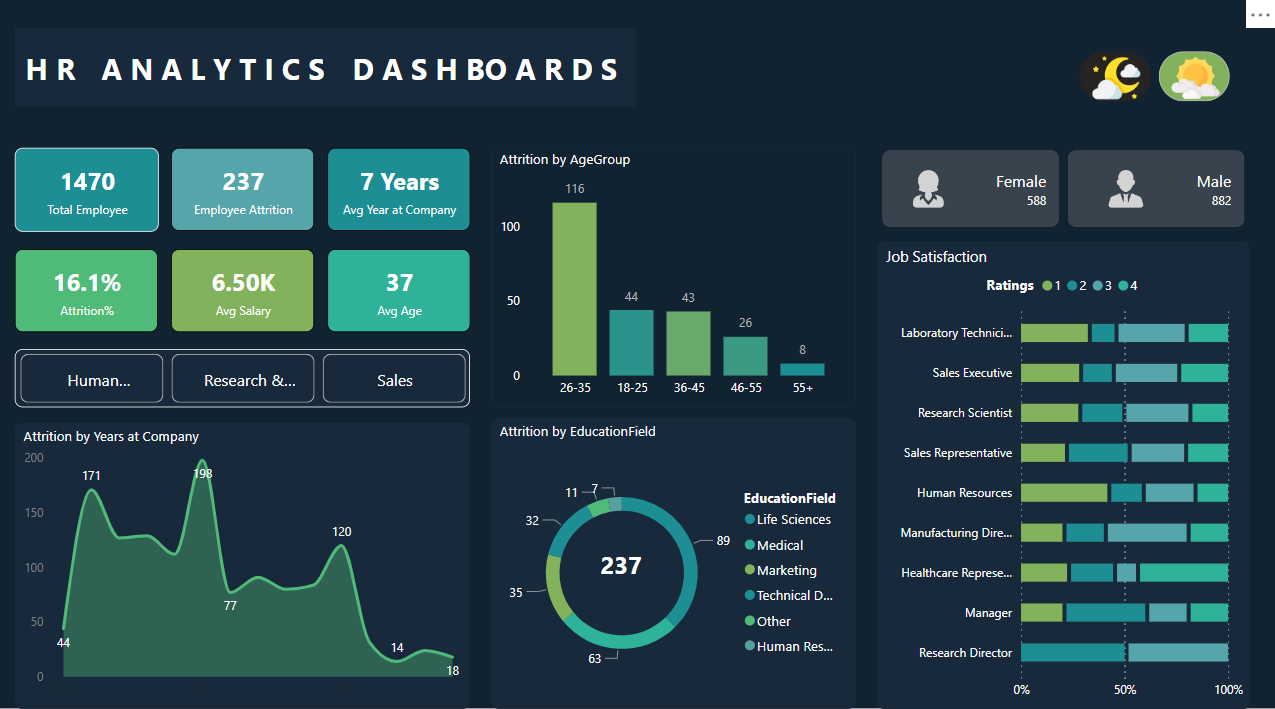

The dashboard page shown, as its layout file describes it:
{"tool":"powerbi","page":{"name":"OVERVIEW","canvas":[1280,720],"ordinal":0},"visuals":[{"type":"shape","box":[0,0,1280,710],"z":0},{"type":"shape","box":[18.6,28.6,71.4,78.6],"z":0,"group":"g1"},{"type":"shape","box":[90,28.6,254.3,78.6],"z":1000,"group":"g1"},{"type":"image","box":[1106.2,166.2,47.5,47.5],"z":1000},{"type":"shape","box":[337.2,28.6,302.9,78.6],"z":2000,"group":"g1"},{"type":"image","box":[908.8,166.2,47.5,47.5],"z":2000},{"type":"card","fields":{"Values":["Key Measures.Employee Count"]},"box":[18.8,148.8,143.8,83.8],"z":3000},{"type":"areaChart","title":"Attrition by Years at Company","fields":{"Y":["CountNonNull(HR_Analytics.Attrition)"],"Category":["HR_Analytics.YearsAtCompany"]},"box":[18.8,423.8,455,286.2],"z":4000},{"type":"donutChart","title":"Attrition by EducationField","fields":{"Y":["Key Measures.Employee Attrition"],"Category":["HR_Analytics.EducationField"]},"box":[495,418.8,365,291.2],"z":5000},{"type":"clusteredColumnChart","title":"Attrition by AgeGroup","fields":{"Category":["HR_Analytics.AgeGroup"],"Y":["Key Measures.Employee Attrition"]},"box":[495,146.2,365,262.5],"z":6000},{"type":"hundredPercentStackedBarChart","title":"Job Satisfaction","fields":{"Category":["HR_Analytics.JobRole"],"Y":["Key Measures.Employee Attrition"],"Series":["HR_Analytics.JobSatisfaction"]},"box":[881,242,373,468],"z":7000},{"type":"card","fields":{"Values":["Key Measures.Employee Attrition"]},"box":[174.6,148.8,143,83],"z":8000},{"type":"card","fields":{"Values":["Key Measures.Years With Text"]},"box":[331,148.8,143,83],"z":9000},{"type":"card","fields":{"Values":["Key Measures.Attrition%"]},"box":[18.4,249.8,143,83],"z":10000},{"type":"card","fields":{"Values":["Key Measures.Avg Salary"]},"box":[174.8,249.8,143,83],"z":11000},{"type":"card","fields":{"Values":["Key Measures.Avg Age"]},"box":[331.2,249.8,143,83],"z":12000},{"type":"advancedSlicerVisual","fields":{"Values":["HR_Analytics.Gender"]},"box":[881,146,373,87],"z":13000},{"type":"advancedSlicerVisual","fields":{"Values":["HR_Analytics.Department"]},"box":[18.8,350,455,58.8],"z":14000},{"type":"advancedSlicerVisual","fields":{"Values":["Dark_mode.Label"]},"box":[1078.6,47.1,161.4,60],"z":15000},{"type":"card","fields":{"Values":["Key Measures.Employee Attrition"]},"box":[587.1,531.4,75.7,71.4],"z":16000},{"type":"group","id":"g1","title":"Group 1","box":[18.6,28.6,621.4,78.6],"z":17000}]}

Visuals, with their boxes in screenshot pixels (x1, y1, x2, y2), scaled from the page's 1280x720 canvas onto the 1275x709 screenshot:
shape: detection(0, 0, 1274, 699)
shape: detection(19, 28, 90, 106)
shape: detection(90, 28, 343, 106)
image: detection(1102, 164, 1149, 210)
shape: detection(336, 28, 638, 106)
image: detection(905, 164, 953, 210)
card - Key Measures.Employee Count: detection(19, 147, 162, 229)
"Attrition by Years at Company" areaChart: detection(19, 417, 472, 699)
"Attrition by EducationField" donutChart: detection(493, 412, 857, 699)
"Attrition by AgeGroup" clusteredColumnChart: detection(493, 144, 857, 402)
"Job Satisfaction" hundredPercentStackedBarChart: detection(878, 238, 1249, 699)
card - Key Measures.Employee Attrition: detection(174, 147, 316, 228)
card - Key Measures.Years With Text: detection(330, 147, 472, 228)
card - Key Measures.Attrition%: detection(18, 246, 161, 328)
card - Key Measures.Avg Salary: detection(174, 246, 317, 328)
card - Key Measures.Avg Age: detection(330, 246, 472, 328)
advancedSlicerVisual - HR_Analytics.Gender: detection(878, 144, 1249, 229)
advancedSlicerVisual - HR_Analytics.Department: detection(19, 345, 472, 403)
advancedSlicerVisual - Dark_mode.Label: detection(1074, 46, 1235, 105)
card - Key Measures.Employee Attrition: detection(585, 523, 660, 594)
"Group 1" group: detection(19, 28, 638, 106)
